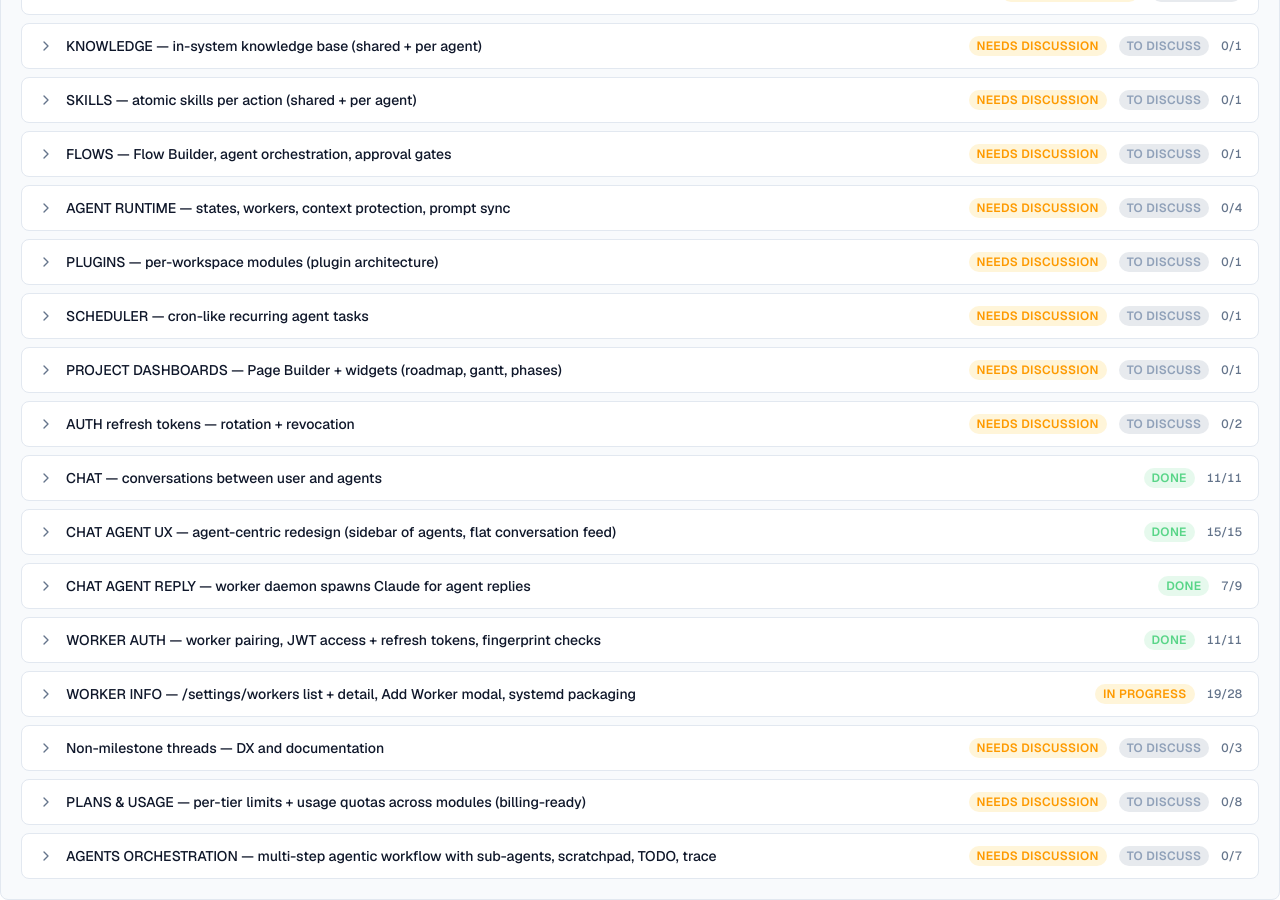
Scenario: RoadmapPanel › should render the CHAT milestone as done with BL-CHAT backend and frontend tasks and commit links
The width and height of the screenshot is (1280, 900).
(page scrolled)
Click the text "CHAT — conversations between user and agents" at (224, 478), box x1=66 y1=469 x2=382 y2=487
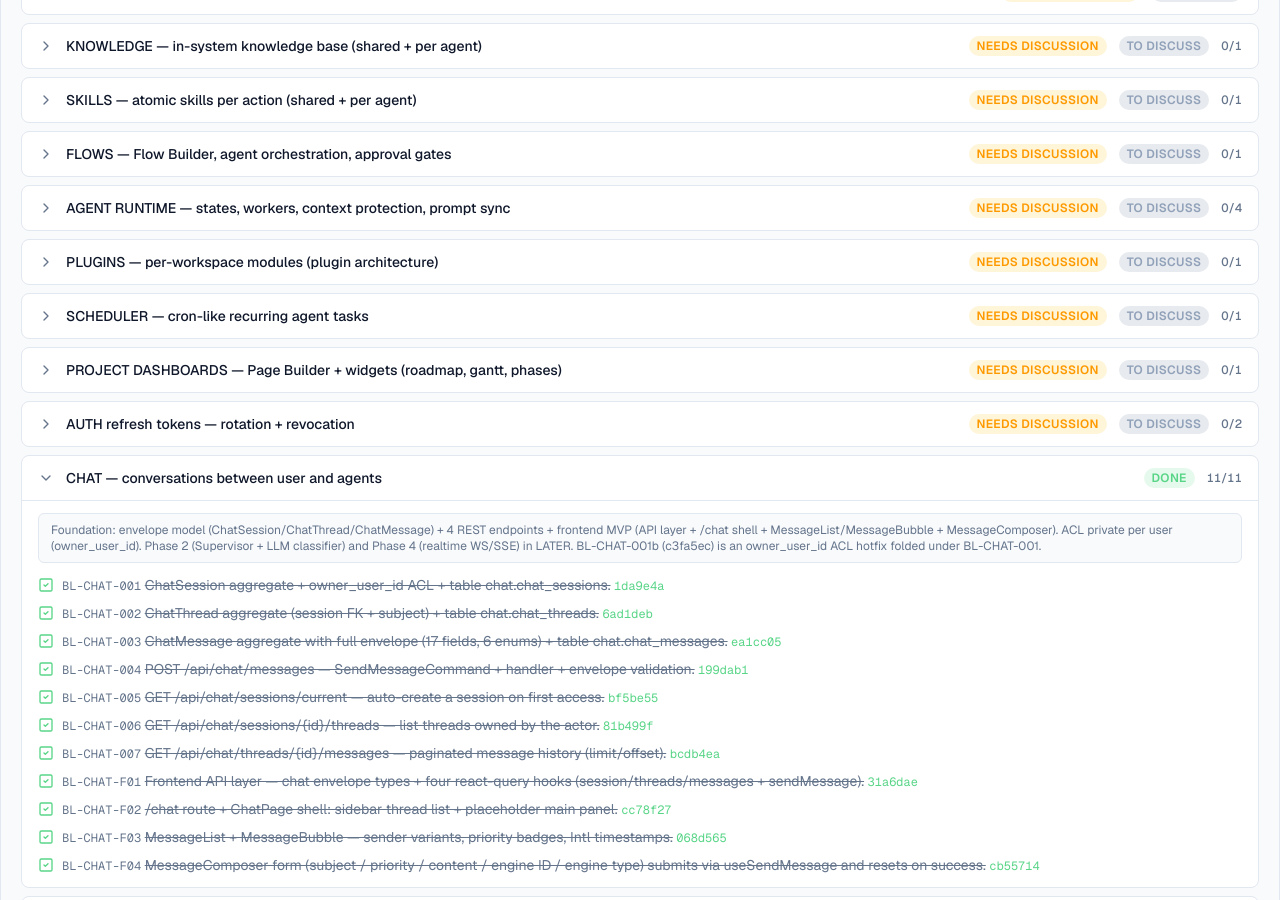
Expected: the text "BL-CHAT-001" is shown, x1=62 y1=578 x2=141 y2=594
Expected: the text "BL-CHAT-004" is shown, x1=62 y1=662 x2=141 y2=678
Expected: the text "BL-CHAT-F01" is shown, x1=62 y1=774 x2=141 y2=790
